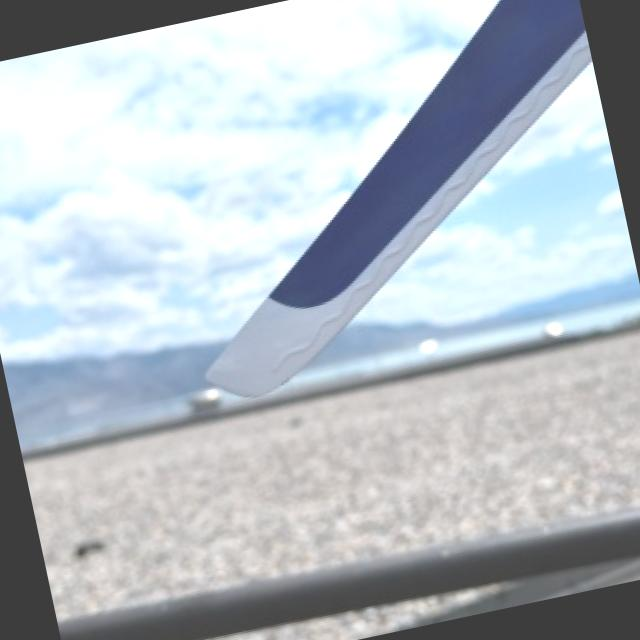healthy: (210, 0, 588, 393)
